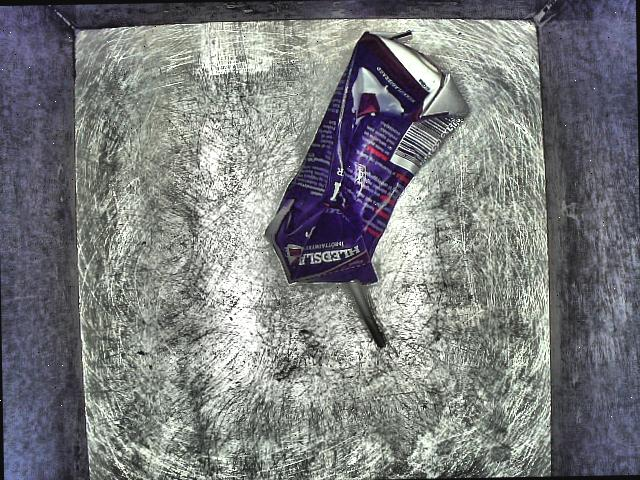Paper: (259, 20, 475, 359)
